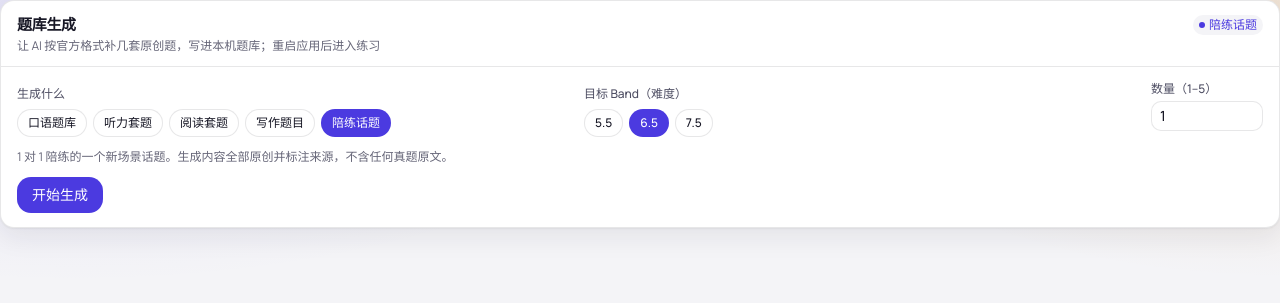
题库生成卡（§17.4） › 后端当场 503 时原样显示中文 detail，不假装排队成功
Click the button "开始生成" at (60, 195), box 17,177 -> 103,213
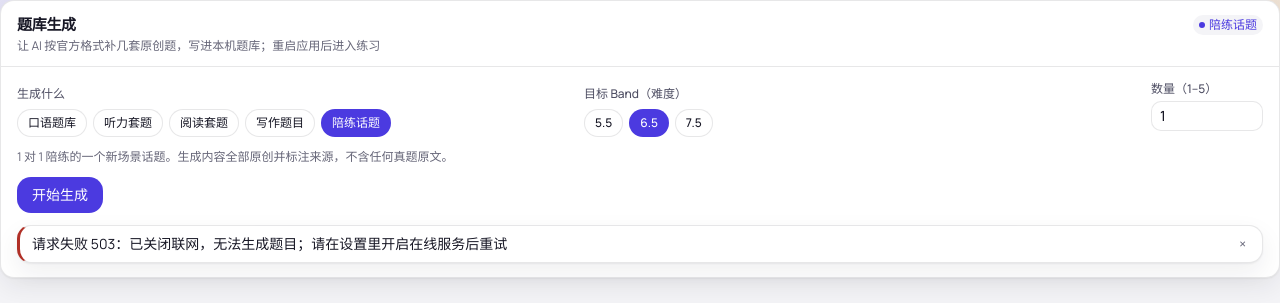
Check: the message shows "已关闭联网", box 32,234 -> 507,253
